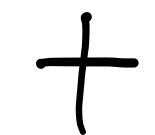plus: (36, 12, 139, 135)
